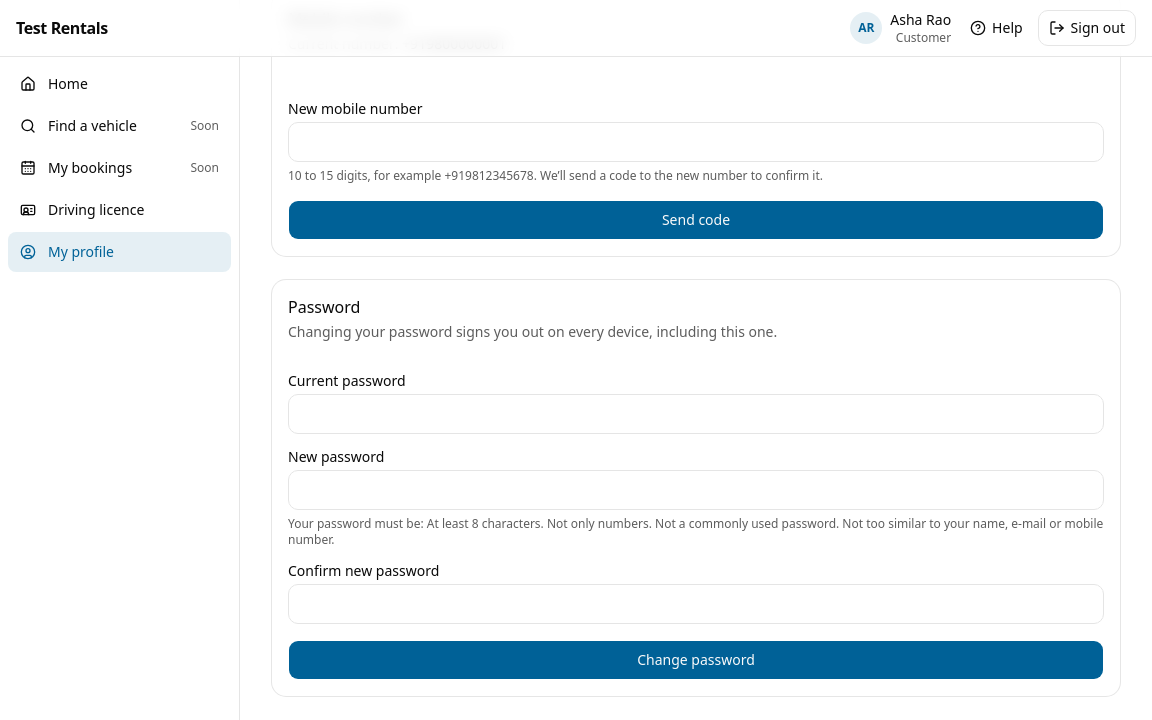
Scenario: Profile › shows a wrong current password next to its field
This screenshot has width=1152, height=720.
(page scrolled)
Type "wrong" into the password field labelled "Current password" at {"x": 696, "y": 414}, box [288,394,1104,434]
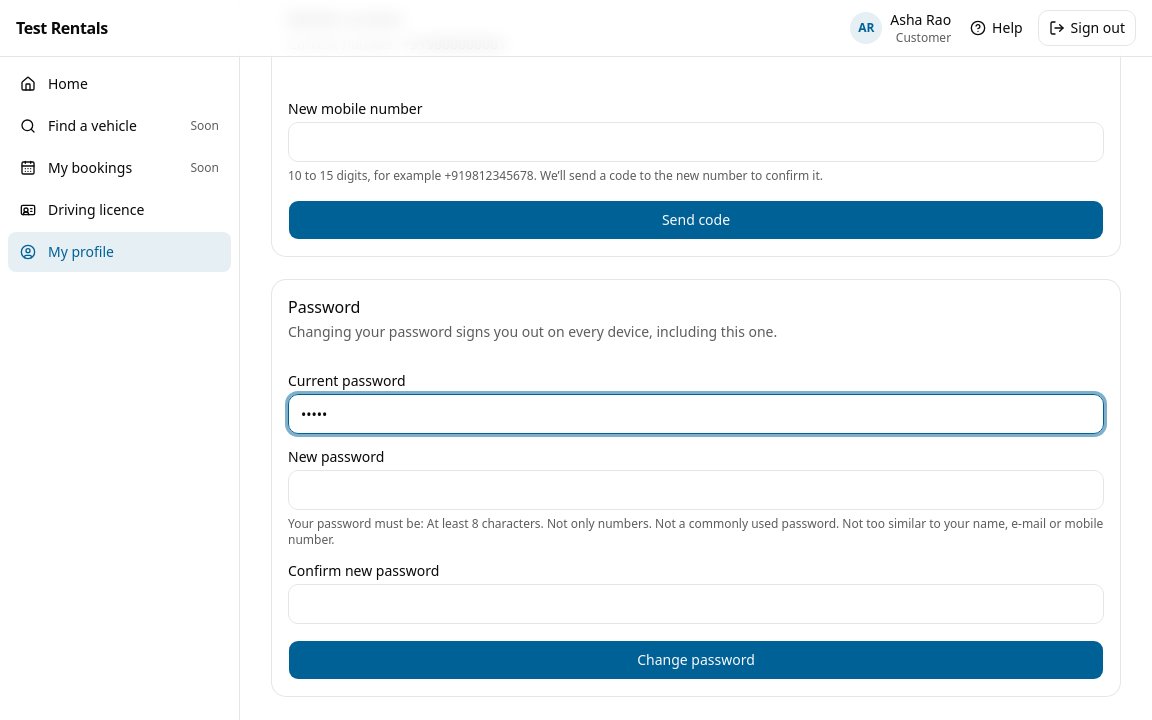
Type "N3w!Passw0rd-2026" into the password field labelled "New password" at {"x": 696, "y": 490}, box [288,470,1104,510]
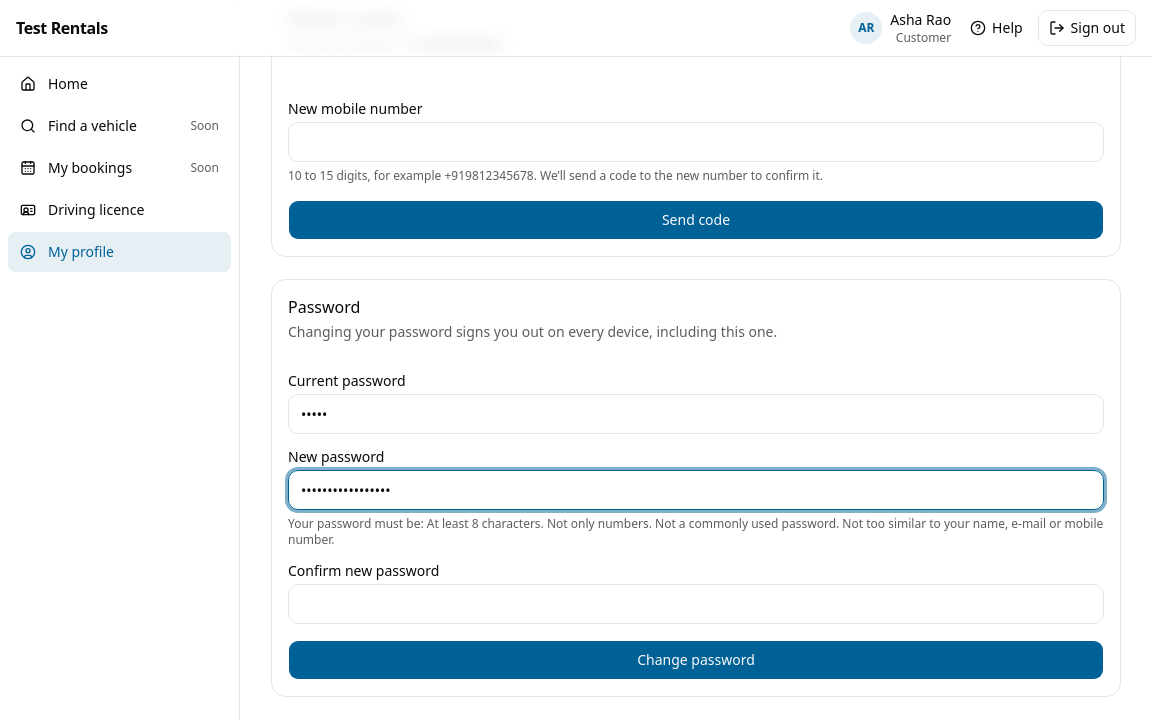
Type "N3w!Passw0rd-2026" into the password field labelled "Confirm new password" at {"x": 696, "y": 604}, box [288,584,1104,624]
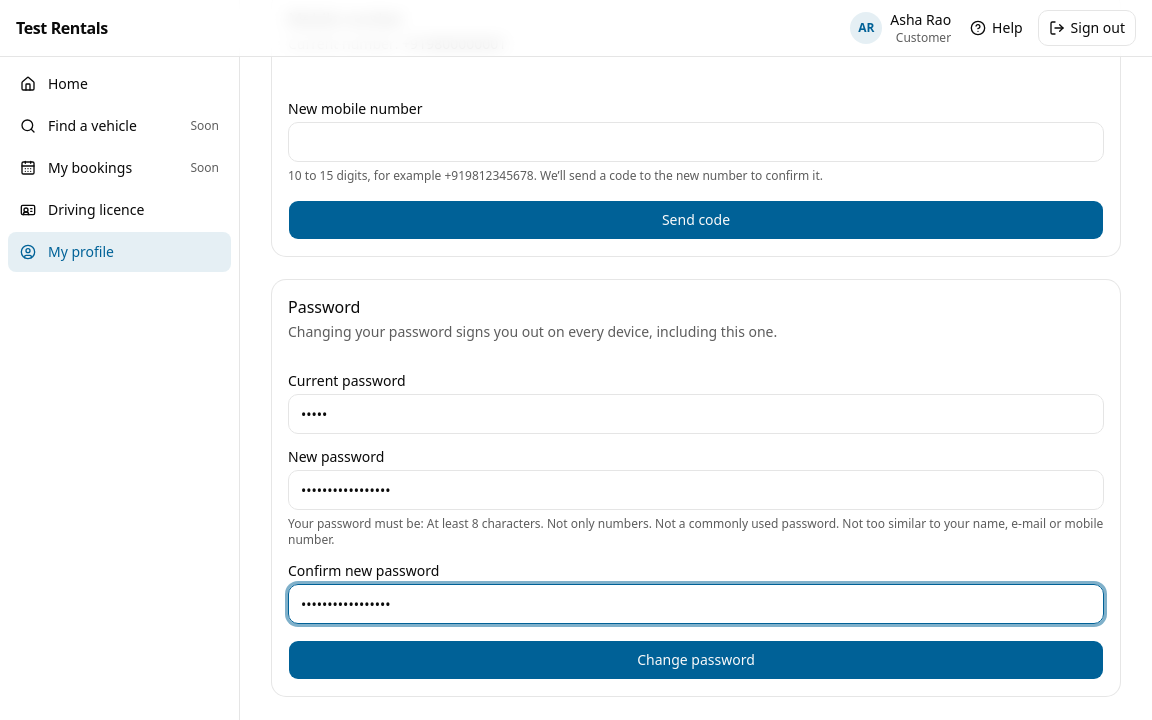
Click the button "Change password" at {"x": 696, "y": 660}, box [288,640,1104,680]
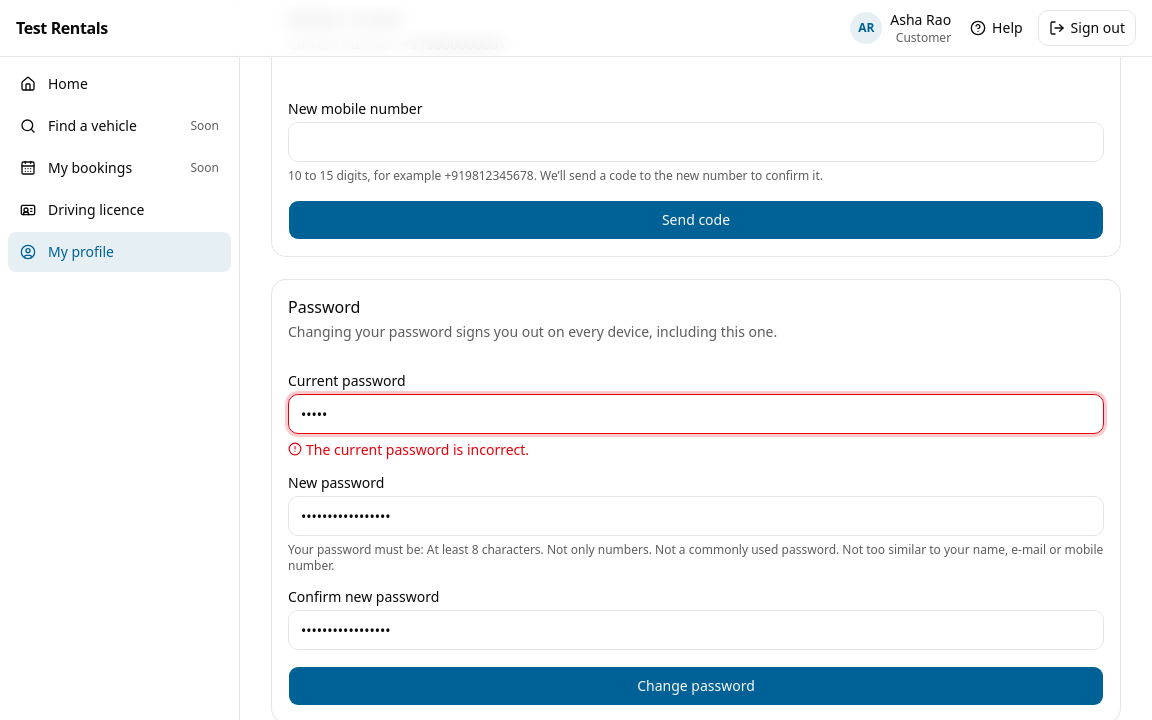
expect the text "The current password is incorrect." is shown: met, box [306,440,529,460]
